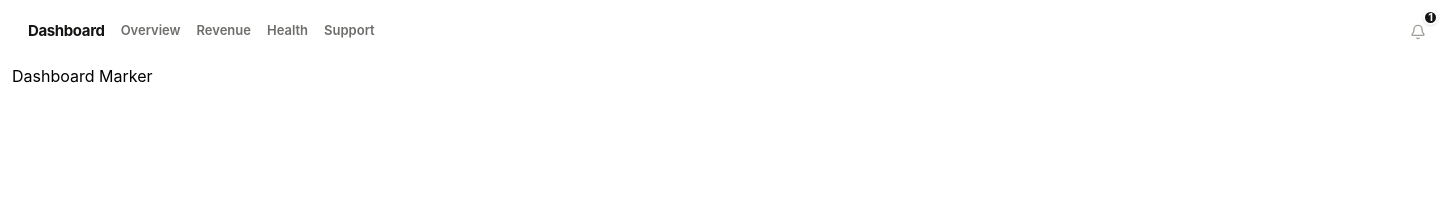
Test case: Navbar notification bell › lists a segment alert by its message and opens that segment on its Changes tab
Click the button named "Notifications" at (1418, 32), box [1400, 14, 1436, 50]
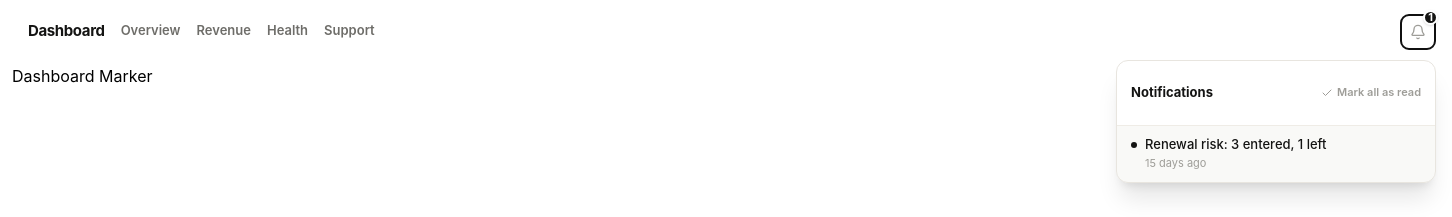
Click the text "Renewal risk: 3 entered, 1 left" at (1236, 144), box [1145, 136, 1326, 153]
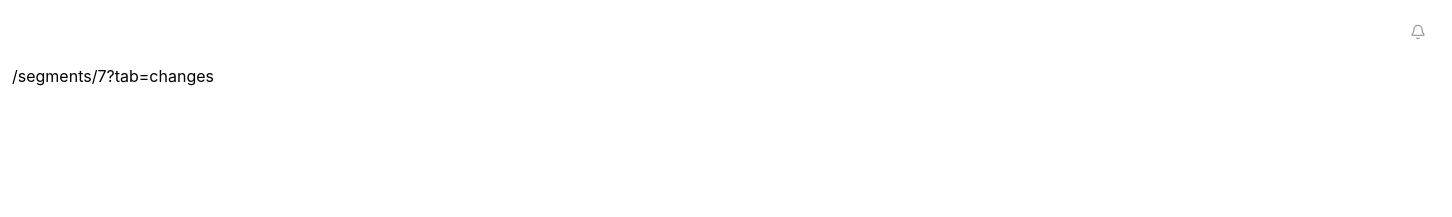
Expected: the text with test id "segment-marker" reads "/segments/7?tab=changes", [12, 66, 214, 86]
